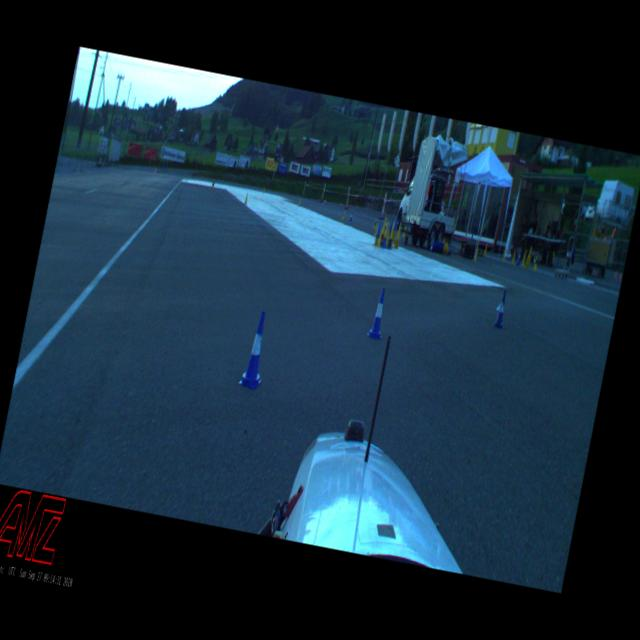blue_cone: (238, 308, 274, 392), (366, 287, 392, 340), (492, 290, 511, 330)
